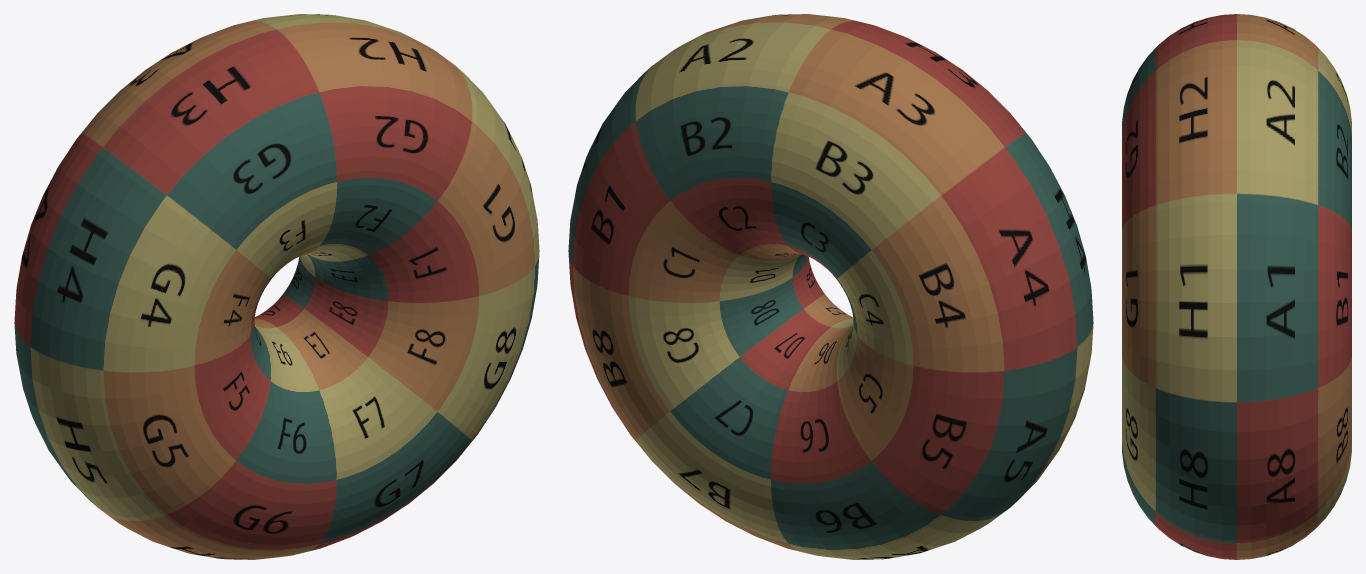
File: texture_torus_R5_r29.glb
The picture shows the model from 3 angles, left to right: view 1: azimuth 30°, elevation 25°; view 2: azimuth 150°, elevation 25°; view 3: azimuth 270°, elevation 25°; orthographic projection. The views are drawn at different scales.
Visible parts, largest first — view 1: world; view 2: world; view 3: world.
Part boxes in pixels (<box>): world: <box>14,14,539,559</box>; world: <box>568,14,1093,559</box>; world: <box>1122,14,1351,559</box>.
Bounding box in the file's own units: 23.07 × 23.02 × 9.71.
1 material, 1 textured.
